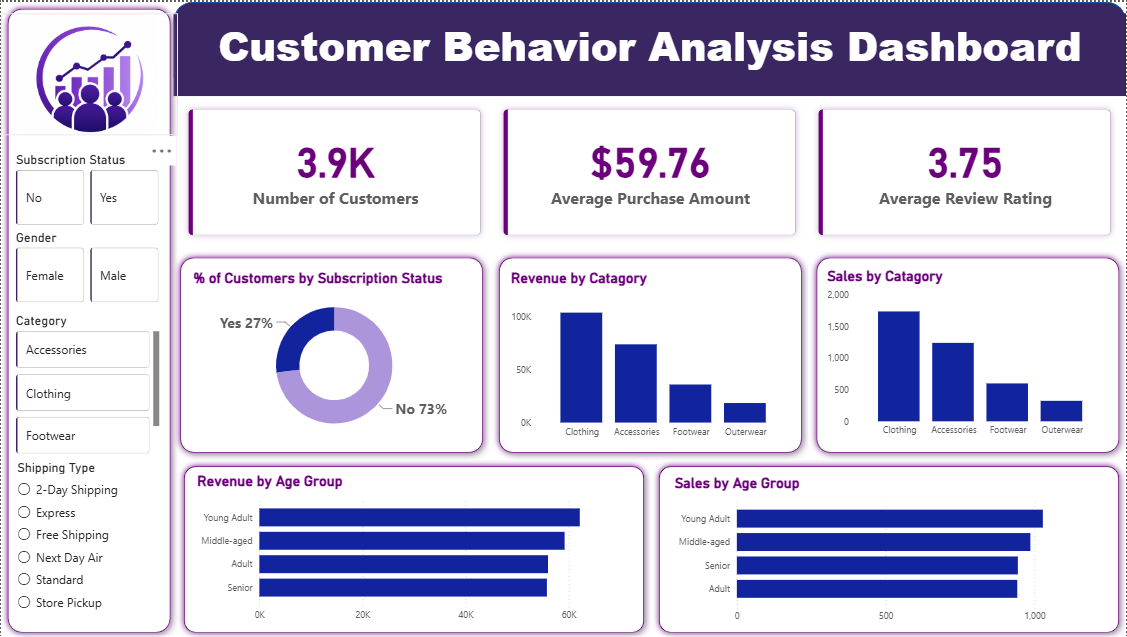

The page's visual inventory and layout, read from the dashboard file:
{"tool":"powerbi","page":{"name":"Page 1","canvas":[1500,850],"ordinal":0},"visuals":[{"type":"cardVisual","fields":{"Data":["customer_behavior customer.Number of Customers","customer_behavior customer.Average Purchase Amount","customer_behavior customer.Average Review Rating"]},"box":[230,123.3,1270,208.3],"z":0},{"type":"shape","box":[230,0,1270,101.4],"z":1000},{"type":"textbox","box":[230,14.3,1270,110],"z":2000},{"type":"shape","box":[234.3,610,631.4,240],"z":3000},{"type":"shape","box":[868.6,610,631.4,240],"z":4000},{"type":"shape","box":[230,331.7,421.7,278.3],"z":5000},{"type":"shape","box":[654.2,331.7,421.7,278.3],"z":6000},{"type":"shape","box":[1078.3,331.7,421.7,278.3],"z":7000},{"type":"donutChart","title":"% of Customers by Subscription Status","fields":{"Category":["customer_behavior customer.subscription_status"],"Y":["CountNonNull(customer_behavior customer.customer_id)"]},"box":[251.4,357.1,385.7,234.3],"z":8000},{"type":"clusteredColumnChart","title":"Revenue by Catagory","fields":{"Category":["customer_behavior customer.category"],"Y":["Sum(customer_behavior customer.purchase_amount)"]},"box":[674.3,357.1,381.4,234.3],"z":9000},{"type":"clusteredColumnChart","title":"Sales by Catagory","fields":{"Category":["customer_behavior customer.category"],"Y":["CountNonNull(customer_behavior customer.customer_id)"]},"box":[1097.1,354.3,381.4,234.3],"z":10000},{"type":"shape","box":[0,0,235,850],"z":11000},{"type":"advancedSlicerVisual","title":"Subscription Status","fields":{"Values":["customer_behavior customer.subscription_status"]},"box":[15.7,200,201.4,102.9],"z":12000},{"type":"advancedSlicerVisual","title":"Gender","fields":{"Values":["customer_behavior customer.gender"]},"box":[15.7,302.9,201.4,102.9],"z":13000},{"type":"advancedSlicerVisual","title":"Category","fields":{"Values":["customer_behavior customer.category"]},"box":[15.7,415.7,201.4,194.3],"z":14000},{"type":"listSlicer","title":"Shipping Type","fields":{"Values":["customer_behavior customer.shipping_type"]},"box":[17.1,610,200,220],"z":15000},{"type":"clusteredBarChart","title":"Revenue by Age Group","fields":{"Category":["customer_behavior customer.age_group"],"Y":["Sum(customer_behavior customer.purchase_amount)"]},"box":[257.1,628.6,584.3,207.1],"z":16000},{"type":"clusteredBarChart","title":"Sales by Age Group","fields":{"Category":["customer_behavior customer.age_group"],"Y":["CountNonNull(customer_behavior customer.customer_id)"]},"box":[892.9,630,584.3,207.1],"z":17000},{"type":"image","box":[0,14.3,234.3,164.3],"z":18000}]}

Visuals, with their boxes in screenshot pixels (x1, y1, x2, y2), scaled from the page's 1500x850 canvas onto the 1127x637 screenshot:
cardVisual - customer_behavior customer.Number of Customers x customer_behavior customer.Average Purchase Amount: 173:92:1126:249
shape: 173:0:1126:76
textbox: 173:11:1126:93
shape: 176:457:650:636
shape: 653:457:1126:636
shape: 173:249:490:457
shape: 492:249:808:457
shape: 810:249:1126:457
"% of Customers by Subscription Status" donutChart: 189:268:479:443
"Revenue by Catagory" clusteredColumnChart: 507:268:793:443
"Sales by Catagory" clusteredColumnChart: 824:266:1111:441
shape: 0:0:177:636
"Subscription Status" advancedSlicerVisual: 12:150:163:227
"Gender" advancedSlicerVisual: 12:227:163:304
"Category" advancedSlicerVisual: 12:312:163:457
"Shipping Type" listSlicer: 13:457:163:622
"Revenue by Age Group" clusteredBarChart: 193:471:632:626
"Sales by Age Group" clusteredBarChart: 671:472:1110:627
image: 0:11:176:134
